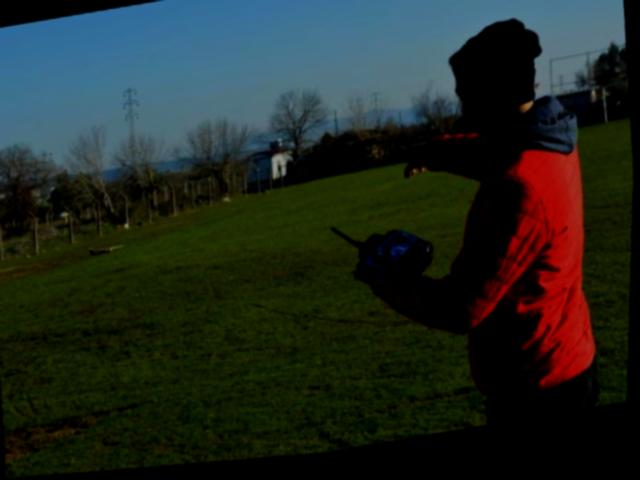iha: (83, 237, 128, 263)
